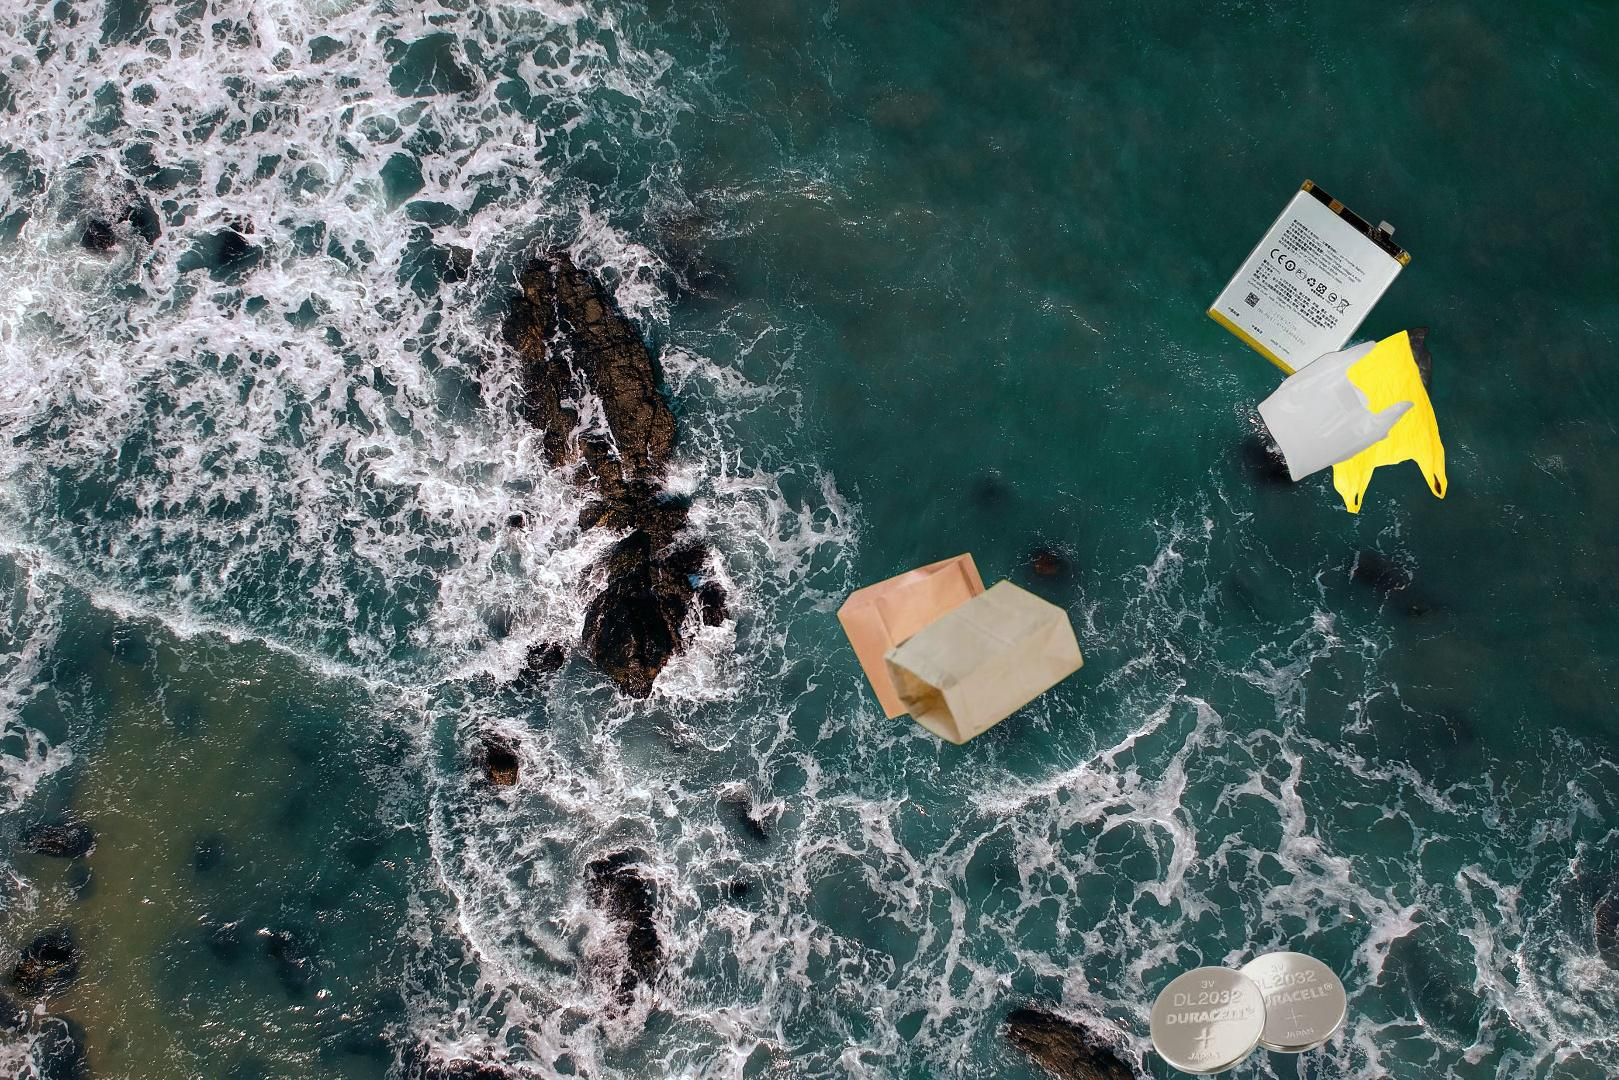battery: (1202, 177, 1414, 394), (1110, 947, 1349, 1080)
paper-bag: (833, 550, 1089, 749)
plastic-bag: (1254, 324, 1460, 517)
